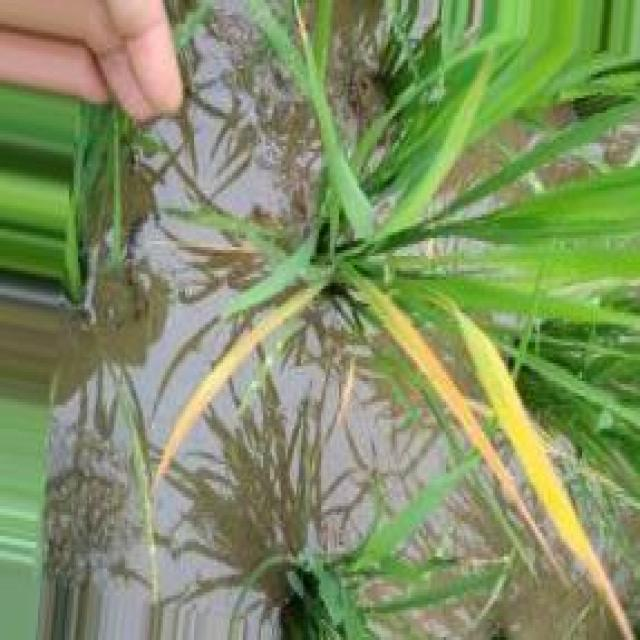Rice Tungro: (358, 275, 565, 578), (447, 300, 631, 638), (156, 286, 324, 486)
